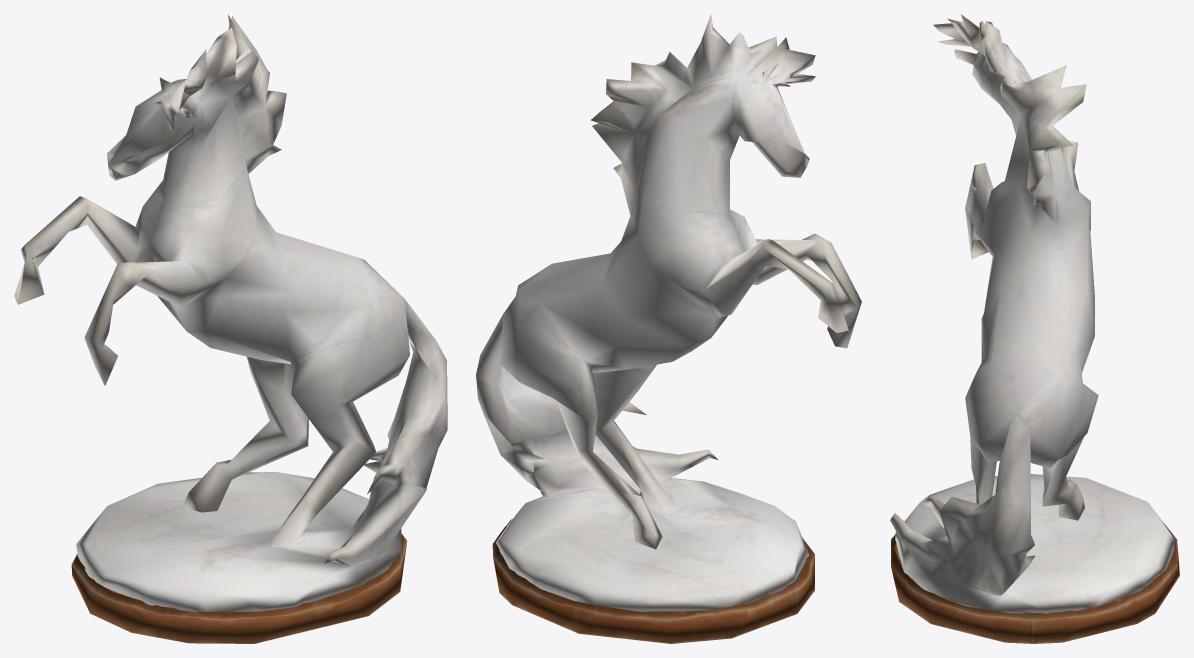
File: horse.glb
3 views of the same model, side by side, from view 1: azimuth 30°, elevation 25°; view 2: azimuth 150°, elevation 25°; view 3: azimuth 270°, elevation 25° (orthographic). The views are drawn at different scales.
Parts seen in each view (by area): view 1: horse_statue_01; view 2: horse_statue_01; view 3: horse_statue_01.
Boxes of the visible parts, <box> form: horse_statue_01: <box>14,14,447,643</box>; horse_statue_01: <box>476,14,861,643</box>; horse_statue_01: <box>890,14,1179,643</box>.
Size of the model in its own units: 0.162 by 0.22 by 0.1071.
1 material, 1 textured.
